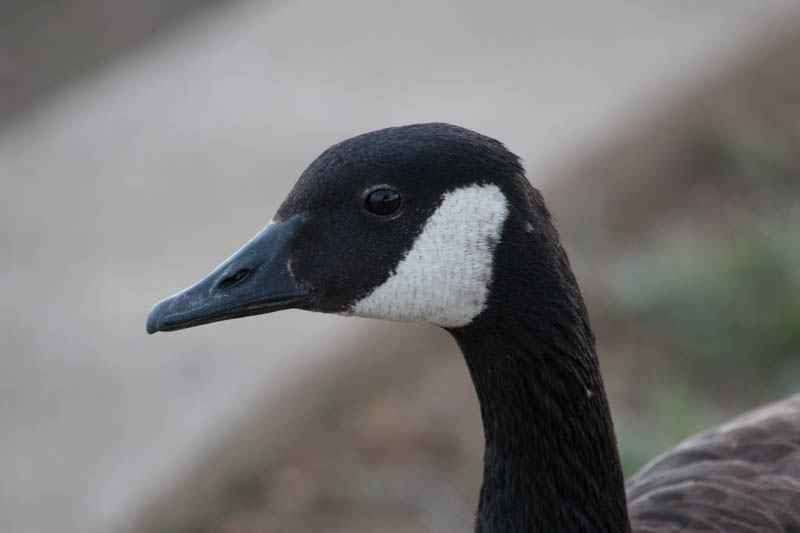goose-head: (145, 122, 592, 336)
